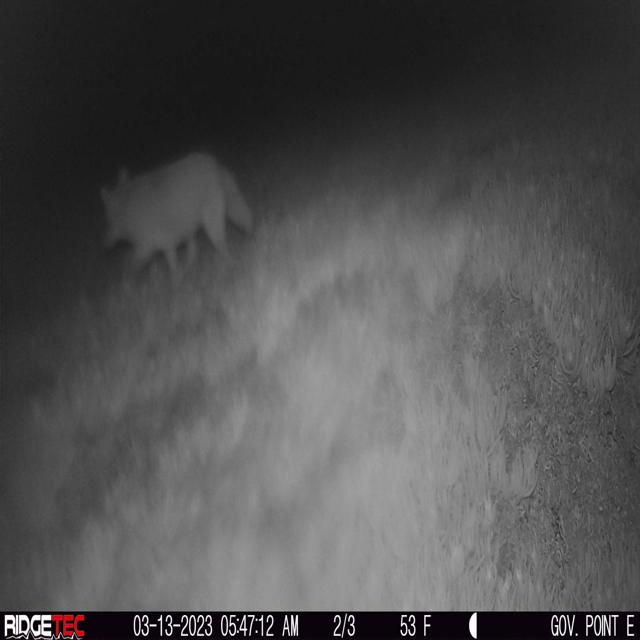coyote: (99, 150, 255, 293)
